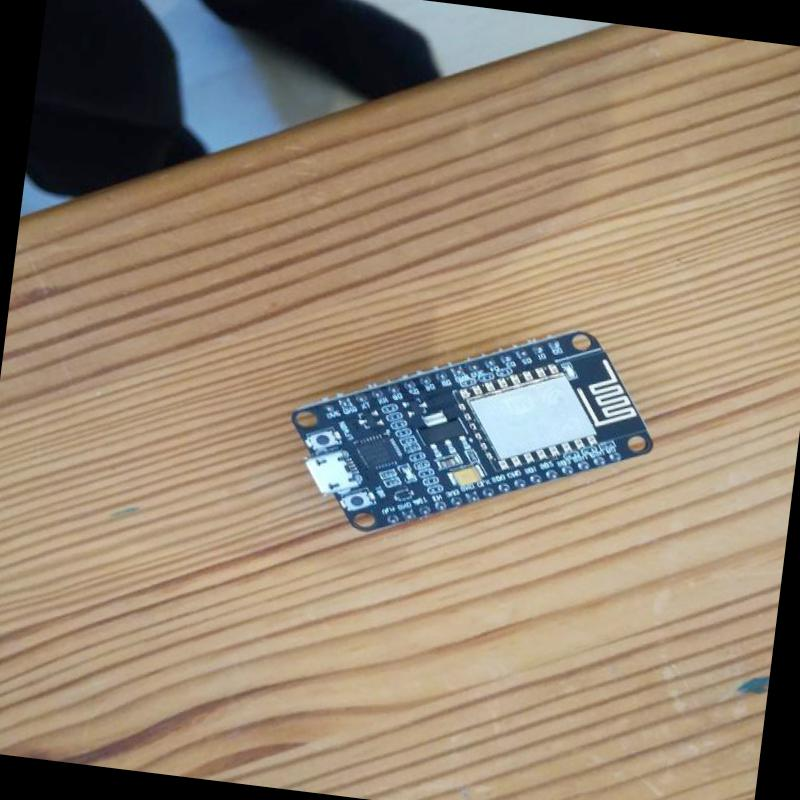ESP8266: (263, 279, 686, 580)
